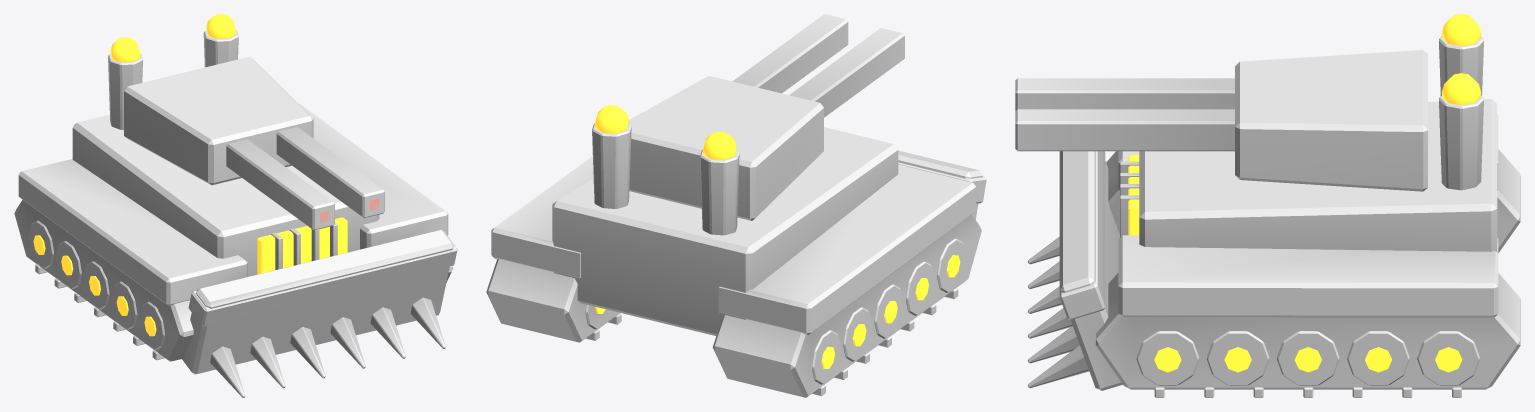
File: e5_furnace_roller.glb
The picture shows the model from 3 angles, left to right: view 1: azimuth 30°, elevation 25°; view 2: azimuth 150°, elevation 25°; view 3: azimuth 270°, elevation 25°; orthographic projection. The views are drawn at different scales.
Parts seen in each view (by area): view 1: PlowBlade, TurretHull, HullArmor, Track_L_Fender, Track_R_Fender, Track_L_Belt, PlowTrim, BeamShroud_-0.22, BeamShroud_0.22, MoltenGrill, Stack_-0.42, Stack_0.42 (+13 smaller); view 2: HullArmor, Track_L_Fender, TurretHull, Track_L_Belt, Track_R_Belt, Track_R_Fender, BeamShroud_-0.22, BeamShroud_0.22, Stack_-0.42, Stack_0.42, PlowBlade, Track_L_W2 (+7 smaller); view 3: HullArmor, Track_R_Fender, TurretHull, Track_R_Belt, BeamShroud_0.22, PlowBlade, BeamShroud_-0.22, Stack_0.42, PlowTrim, Track_L_Belt, Track_R_W3, Track_R_W0 (+15 smaller).
Part boxes in pixels (box(x1,y1,x2,y2)): PlowBlade: box(182, 230, 454, 374); TurretHull: box(124, 56, 313, 185); HullArmor: box(72, 114, 379, 276); Track_L_Fender: box(18, 159, 247, 305); Track_R_Fender: box(299, 103, 448, 249); Track_L_Belt: box(14, 199, 193, 361); PlowTrim: box(188, 231, 457, 326); BeamShroud_-0.22: box(226, 139, 334, 230); BeamShroud_0.22: box(276, 127, 384, 218); MoltenGrill: box(257, 217, 347, 274); Stack_-0.42: box(108, 53, 142, 129); Stack_0.42: box(203, 30, 238, 67); HullArmor: box(552, 127, 898, 335); Track_L_Fender: box(718, 164, 976, 334); TurretHull: box(628, 76, 823, 220); Track_L_Belt: box(712, 214, 981, 397); Track_R_Belt: box(486, 259, 619, 342); Track_R_Fender: box(491, 156, 593, 278); BeamShroud_-0.22: box(789, 28, 904, 117); BeamShroud_0.22: box(732, 14, 848, 93); Stack_-0.42: box(700, 150, 739, 235); Stack_0.42: box(592, 123, 631, 208); PlowBlade: box(898, 150, 982, 219); Track_L_W2: box(874, 284, 903, 338); HullArmor: box(1139, 99, 1497, 251); Track_R_Fender: box(1118, 235, 1498, 317); TurretHull: box(1235, 50, 1427, 191); Track_R_Belt: box(1095, 273, 1520, 389); BeamShroud_0.22: box(1015, 109, 1234, 151); PlowBlade: box(1060, 151, 1122, 390); BeamShroud_-0.22: box(1015, 78, 1234, 110); Stack_0.42: box(1439, 95, 1483, 190); PlowTrim: box(1059, 151, 1105, 319); Track_L_Belt: box(1106, 149, 1520, 252); Track_R_W3: box(1347, 331, 1409, 385); Track_R_W0: box(1136, 331, 1198, 385).
Bounding box in the file's own units: 2.46 × 1.84 × 3.
